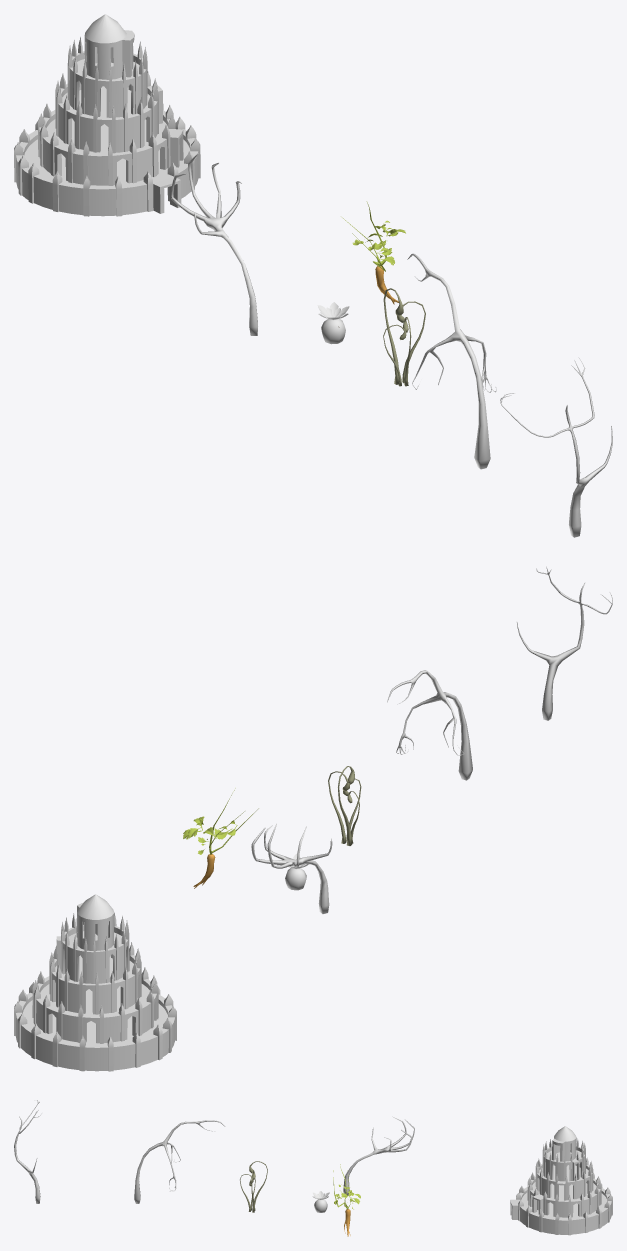
The model's file is Game jam assets.fbx.
The picture shows the model from 3 angles, top to bottom: view 1: azimuth 30°, elevation 25°; view 2: azimuth 150°, elevation 25°; view 3: azimuth 270°, elevation 25°; orthographic projection. The views are drawn at different scales.
Parts seen in each view (by area): view 1: Cube.006, Cube.005, Cylinder.004, Plane.003, Plane.002, Plane.005, Plane.004; view 2: Cube.006, Cube.005, Cylinder.004, Plane.003, Plane.005, Plane.002, Plane.004; view 3: Cube.006, Cube.005, Plane.003, Cylinder.004, Plane.002, Plane.005, Plane.004.
Boxes of the visible parts, x1=… form: Cube.006: x1=38, y1=37, x2=183, y2=185; Cube.005: x1=14, y1=116, x2=200, y2=216; Cylinder.004: x1=84, y1=14, x2=134, y2=79; Plane.003: x1=407, y1=253, x2=496, y2=469; Plane.002: x1=171, y1=153, x2=257, y2=335; Plane.005: x1=500, y1=357, x2=612, y2=537; Plane.004: x1=383, y1=288, x2=425, y2=386; Cube.006: x1=32, y1=912, x2=158, y2=1043; Cube.005: x1=14, y1=982, x2=176, y2=1071; Cylinder.004: x1=76, y1=894, x2=113, y2=950; Plane.003: x1=387, y1=670, x2=472, y2=780; Plane.005: x1=517, y1=566, x2=612, y2=720; Plane.002: x1=251, y1=823, x2=332, y2=913; Plane.004: x1=328, y1=766, x2=361, y2=845; Cube.006: x1=527, y1=1138, x2=601, y2=1217; Cube.005: x1=510, y1=1182, x2=612, y2=1235; Plane.003: x1=134, y1=1120, x2=225, y2=1203; Cylinder.004: x1=552, y1=1126, x2=576, y2=1161; Plane.002: x1=343, y1=1116, x2=414, y2=1195; Plane.005: x1=14, y1=1100, x2=41, y2=1203; Plane.004: x1=240, y1=1161, x2=267, y2=1212.
Size of the model in its own units: 661 by 605 by 3313.
